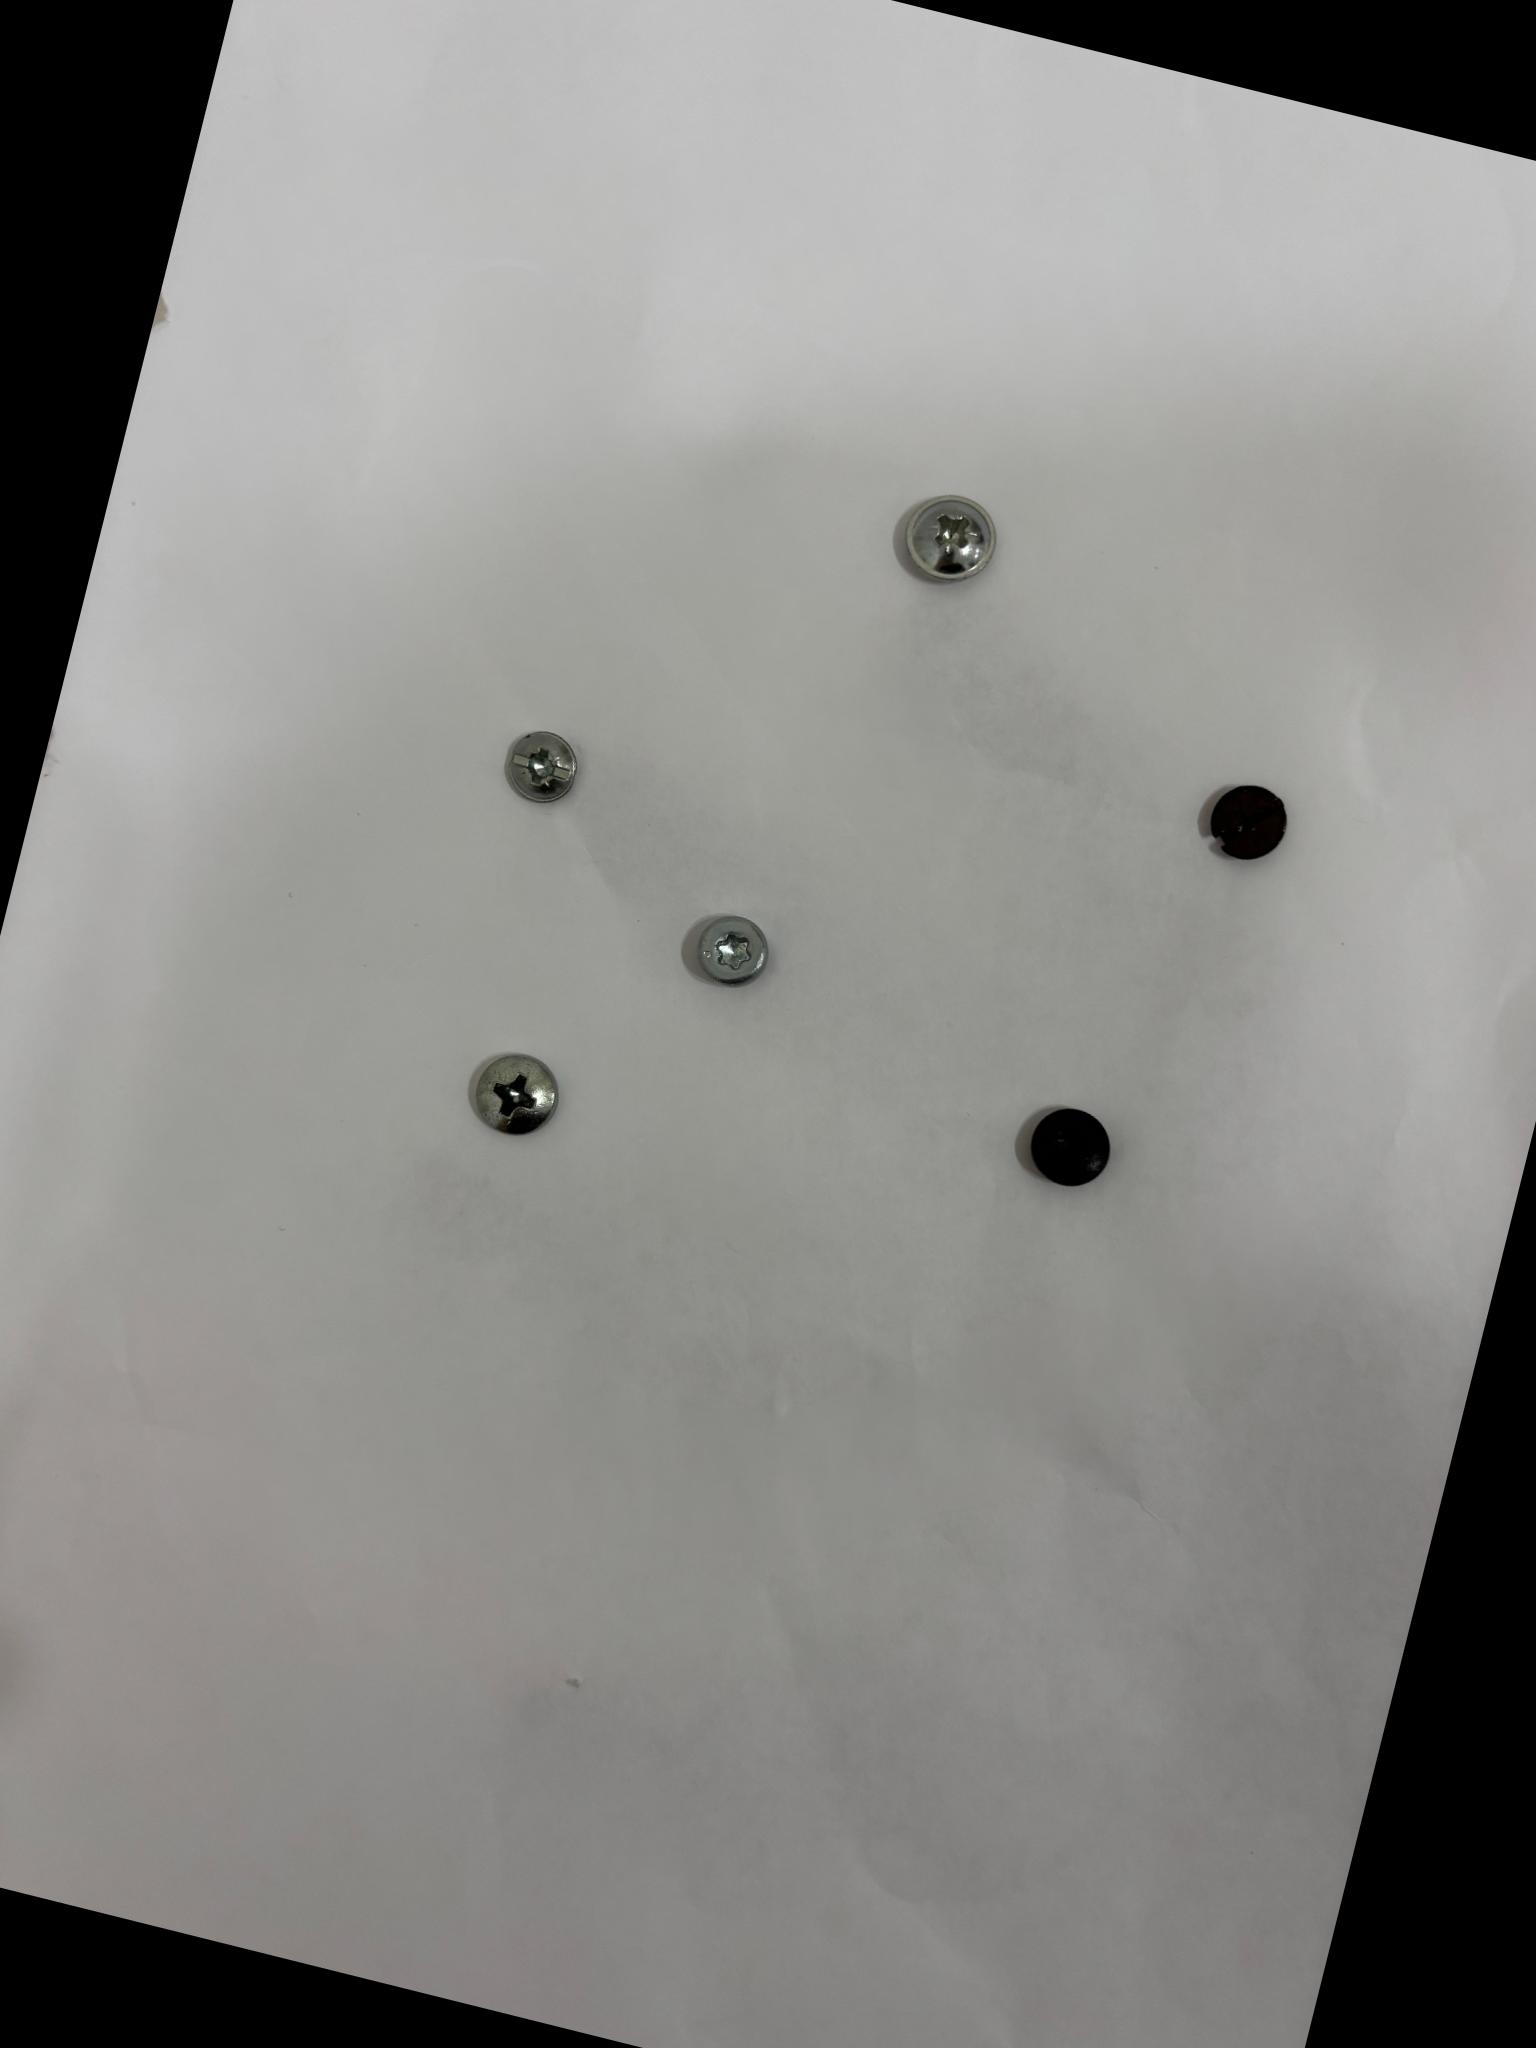H: (1029, 1108, 1108, 1185)
PH: (470, 1053, 558, 1135)
PZ: (902, 495, 995, 581), (503, 729, 576, 801)
SL: (1208, 784, 1286, 858)
T: (694, 914, 766, 984)
